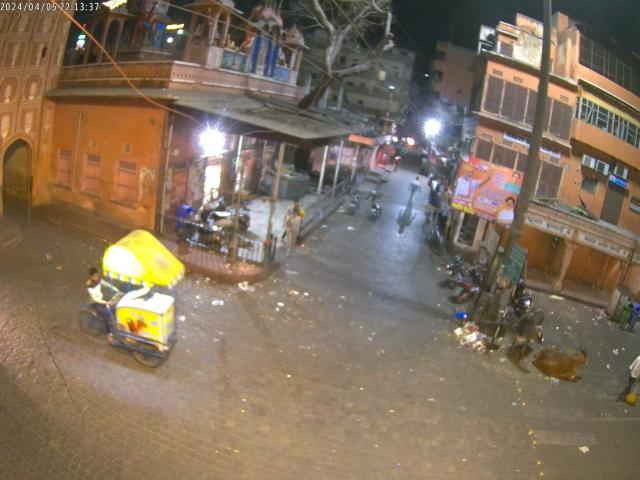cattle: (532, 344, 589, 386), (507, 309, 546, 352)
vendor: (80, 227, 182, 370)
